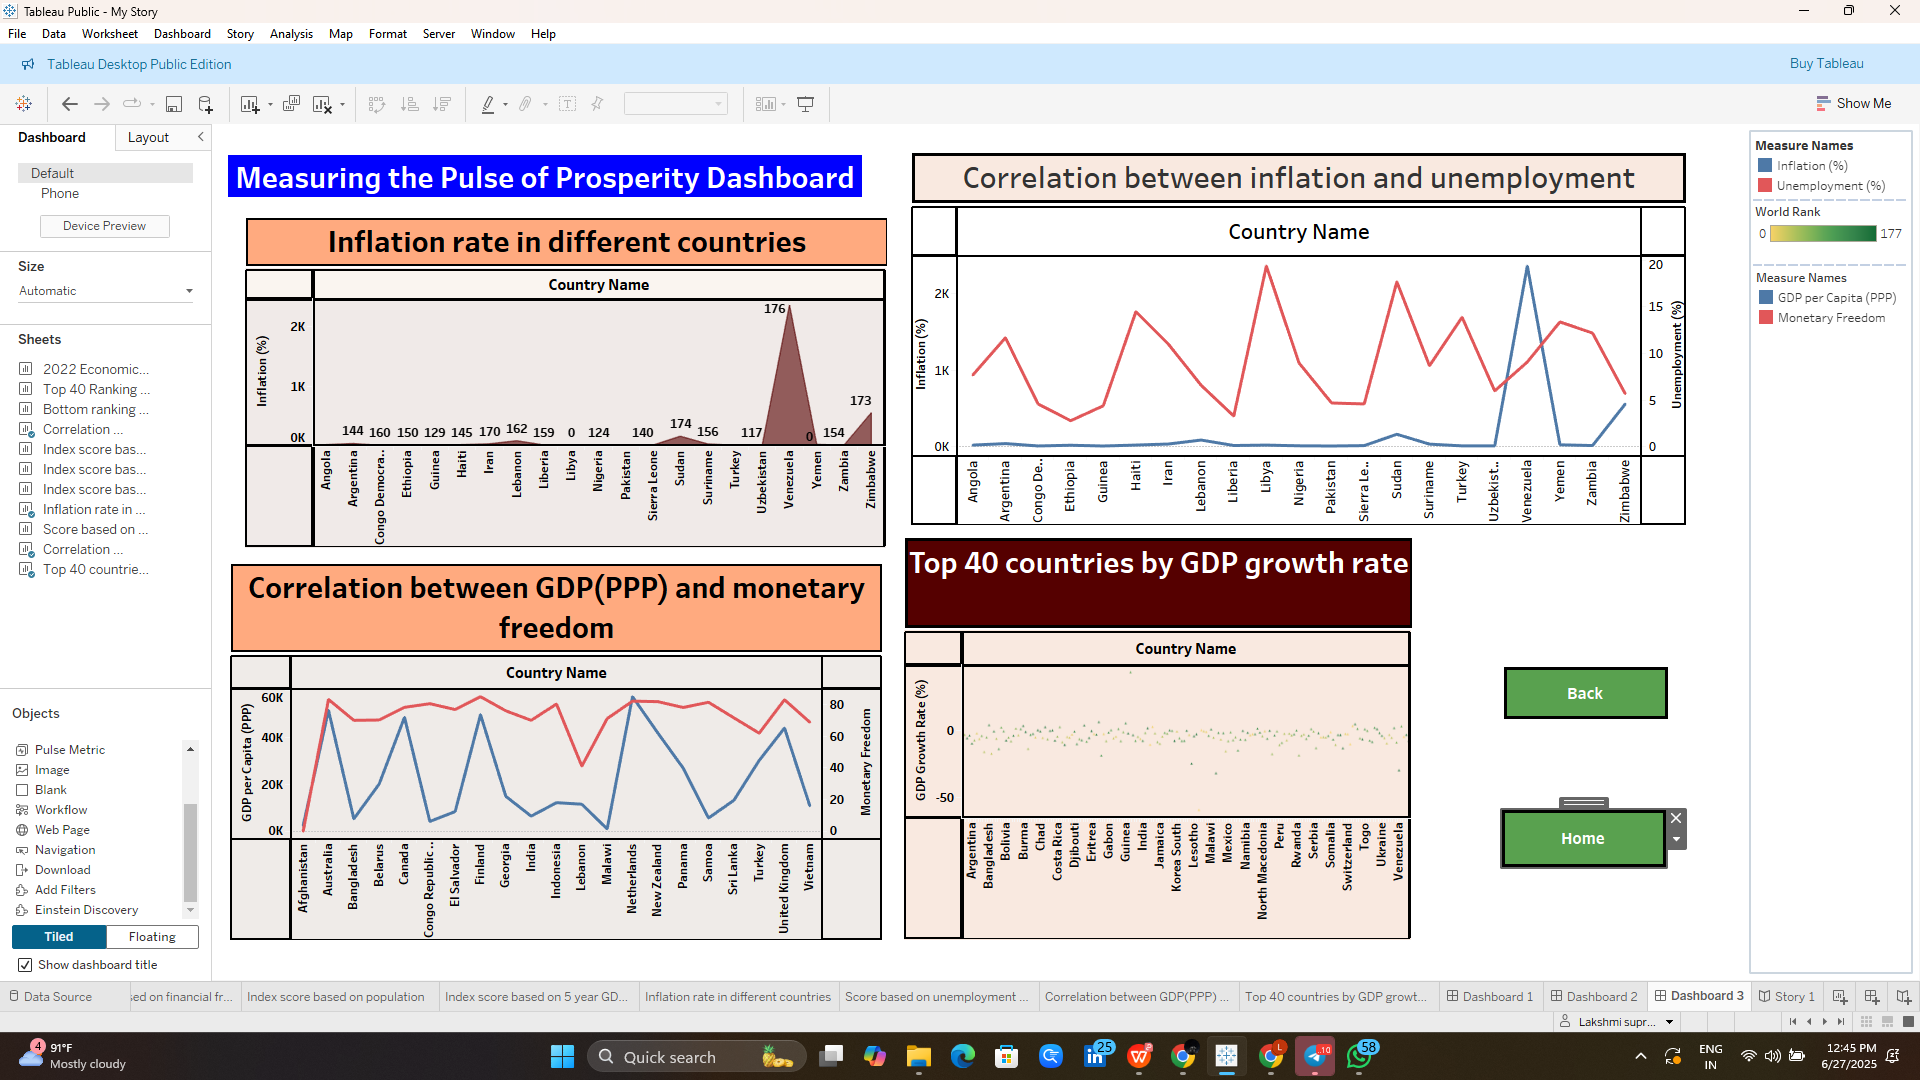

Layout of this report page (visuals, bound fields, positions):
{"tool":"tableau","page":{"name":"Dashboard 3","canvas":[1000,1000],"units":"permille","ordinal":2},"visuals":[{"type":"legend","title":"Correlation between inflation and unemployment","param":"[federated.0w3zbzs02l5cmz1c80fon0o09ncx].[:Measure Names]","box":[901.6,9.3,93.7,78.3]},{"type":"worksheet","title":"Correlation between inflation and unemployment","mark":"Line","rows":["Inflation (%)","Unemployment (%)"],"cols":["Country Name"],"box":[409.5,33.9,454,434.6]},{"type":"title","box":[9.4,36.2,371.4,49.1]},{"type":"legend","title":"Top 40 countries by GDP growth rate","param":"[federated.0w3zbzs02l5cmz1c80fon0o09ncx].[sum:World Rank:qk]","box":[901.6,87.6,93.7,75.9]},{"type":"worksheet","title":"Inflation rate in different countries","mark":"Area","rows":["Inflation (%)"],"cols":["Country Name"],"box":[19.3,109.8,376.1,385.5]},{"type":"legend","title":"Correlation between GDP(PPP) and monetary freedom","param":"[federated.0w3zbzs02l5cmz1c80fon0o09ncx].[:Measure Names]","box":[904.5,169.4,89.6,71.3]},{"type":"worksheet","title":"Top 40 countries by GDP growth rate","mark":"Shape","rows":["GDP Growth Rate (%)"],"cols":["Country Name"],"box":[405.4,483.6,297.6,469.6]},{"type":"worksheet","title":"Correlation between GDP(PPP) and monetary freedom","mark":"Line","rows":["GDP per Capita (PPP)","Monetary Freedom"],"cols":["Country Name"],"box":[10.5,514,382,439.2]},{"type":"dashboard-object","box":[756.9,634.4,96.1,60.8]},{"type":"dashboard-object","box":[755.7,801.4,96.1,66.6]}]}

Visuals, with their boxes on the dashboard's canvas, which has no fixed pixel size, in thousandths of its width and height (x1, y1, x2, y2). These are canvas units, not pixel positions in the 1920x1080 screenshot, which may show the page scaled, cropped or inside an application window:
"Correlation between inflation and unemployment" legend: bbox(902, 9, 995, 88)
"Correlation between inflation and unemployment" worksheet (Line marks): bbox(410, 34, 864, 468)
title: bbox(9, 36, 381, 85)
"Top 40 countries by GDP growth rate" legend: bbox(902, 88, 995, 164)
"Inflation rate in different countries" worksheet (Area marks): bbox(19, 110, 395, 495)
"Correlation between GDP(PPP) and monetary freedom" legend: bbox(904, 169, 994, 241)
"Top 40 countries by GDP growth rate" worksheet (Shape marks): bbox(405, 484, 703, 953)
"Correlation between GDP(PPP) and monetary freedom" worksheet (Line marks): bbox(10, 514, 392, 953)
dashboard-object: bbox(757, 634, 853, 695)
dashboard-object: bbox(756, 801, 852, 868)
